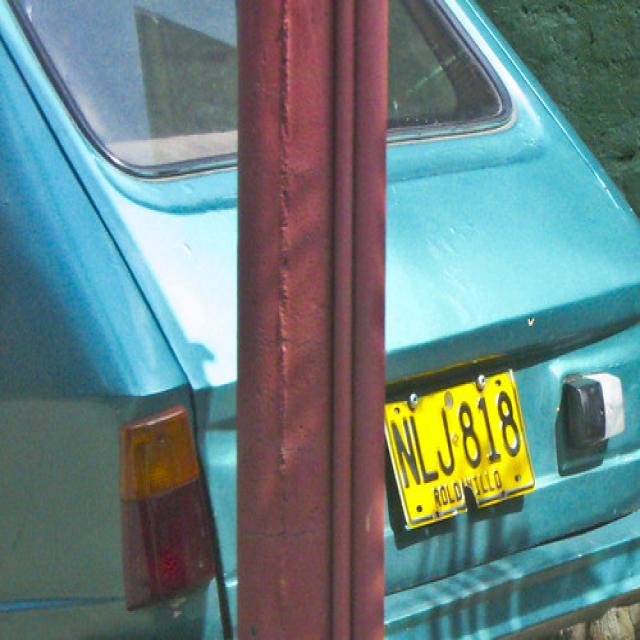placas: (384, 368, 525, 491)
